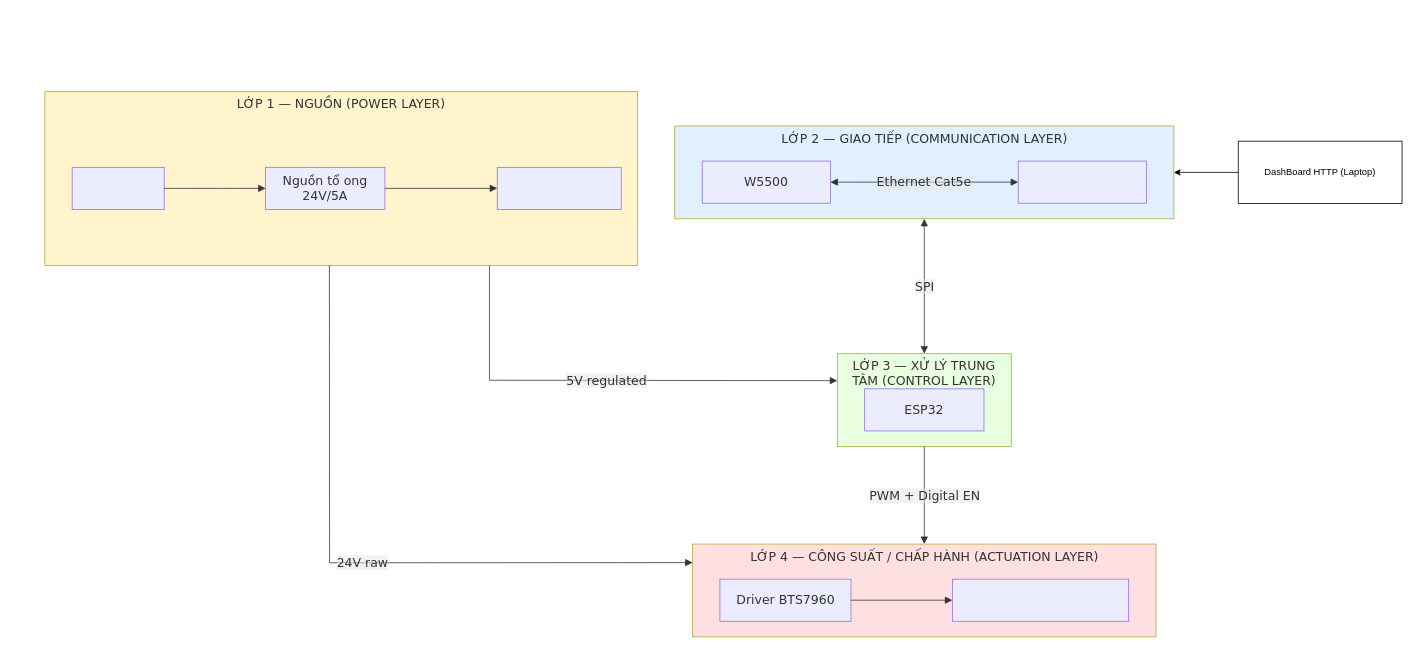
The diagram is 1416 pixels wide and 651 high, and some of its shapes have lost their labels. The box of each missing label's shape, as (x1, y1, x2, y2) in pixels:
AC 220V: (71, 167, 164, 209)
Buck 24V→5V: (496, 167, 621, 209)
Motor JGB37/GB37 24V: (952, 578, 1129, 621)
Switch/Router: (1017, 160, 1146, 203)
